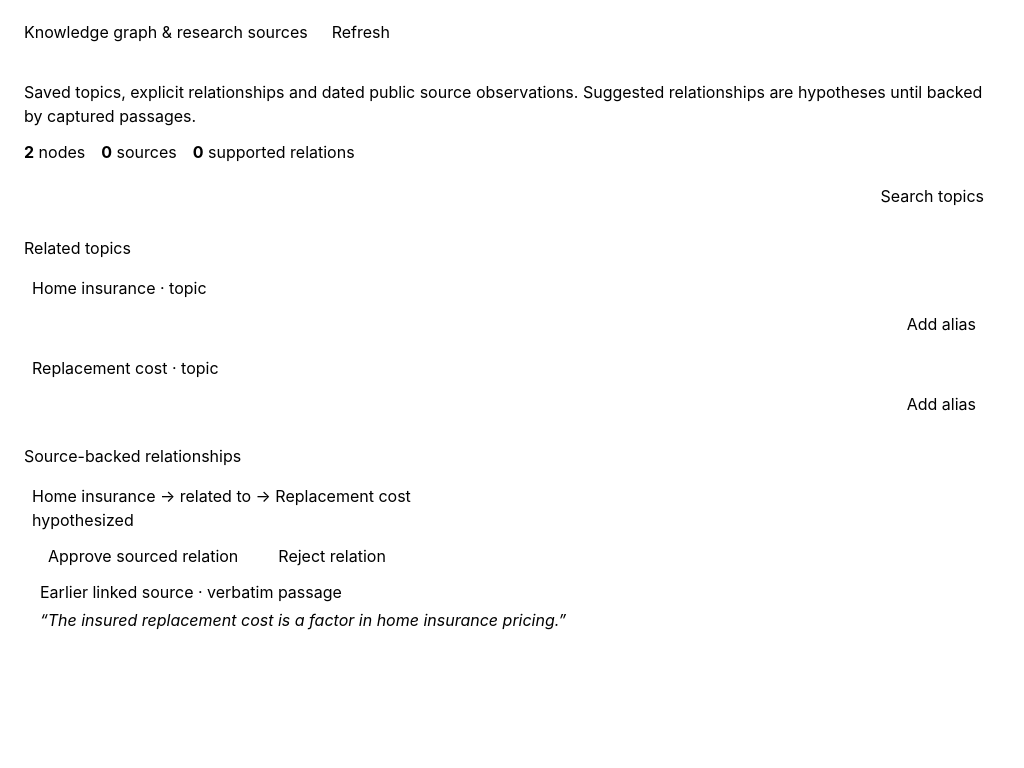
Test case: Project discovery author controls › lets the author explicitly verify a quoted noncausal relationship
Click the button "Approve sourced relation": click(143, 556) 32,540 -> 254,572
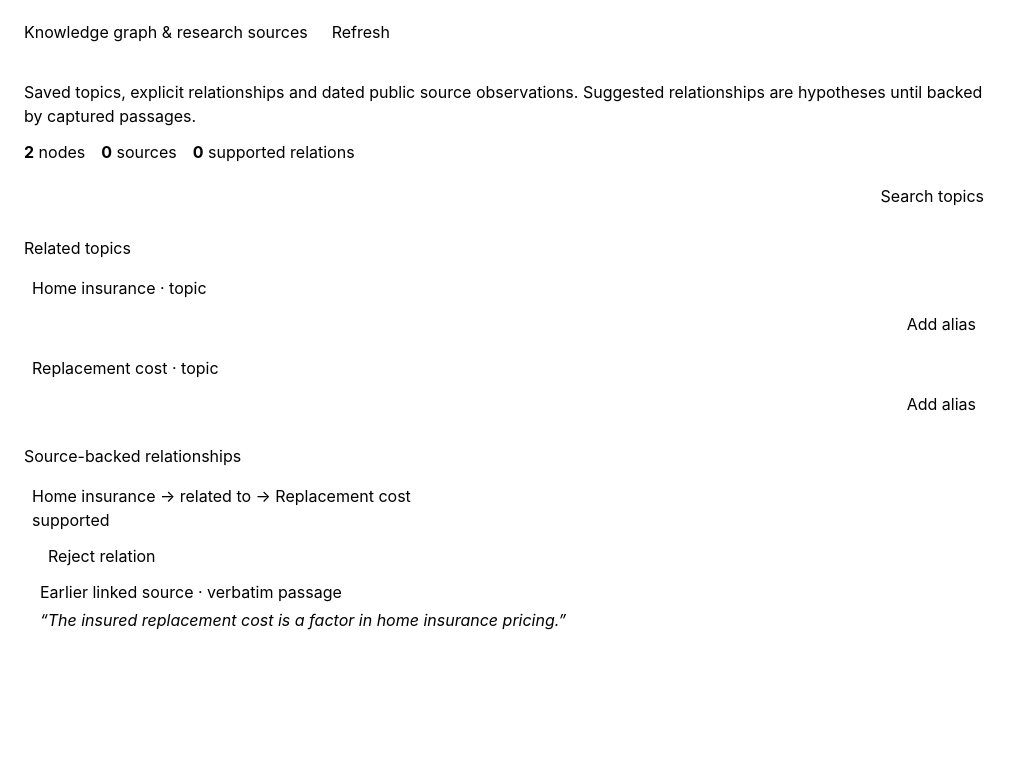
Expected: the text "supported" is shown, 32,510 -> 110,530
